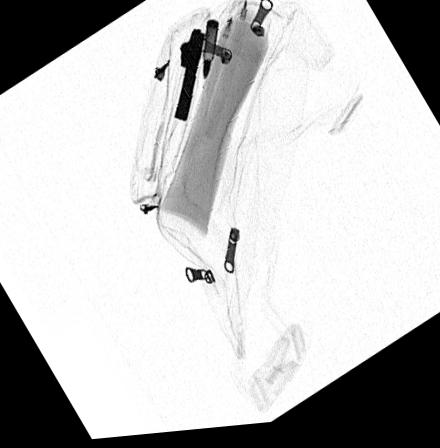Bullet: (202, 24, 217, 84)
Gun: (174, 31, 203, 124)
